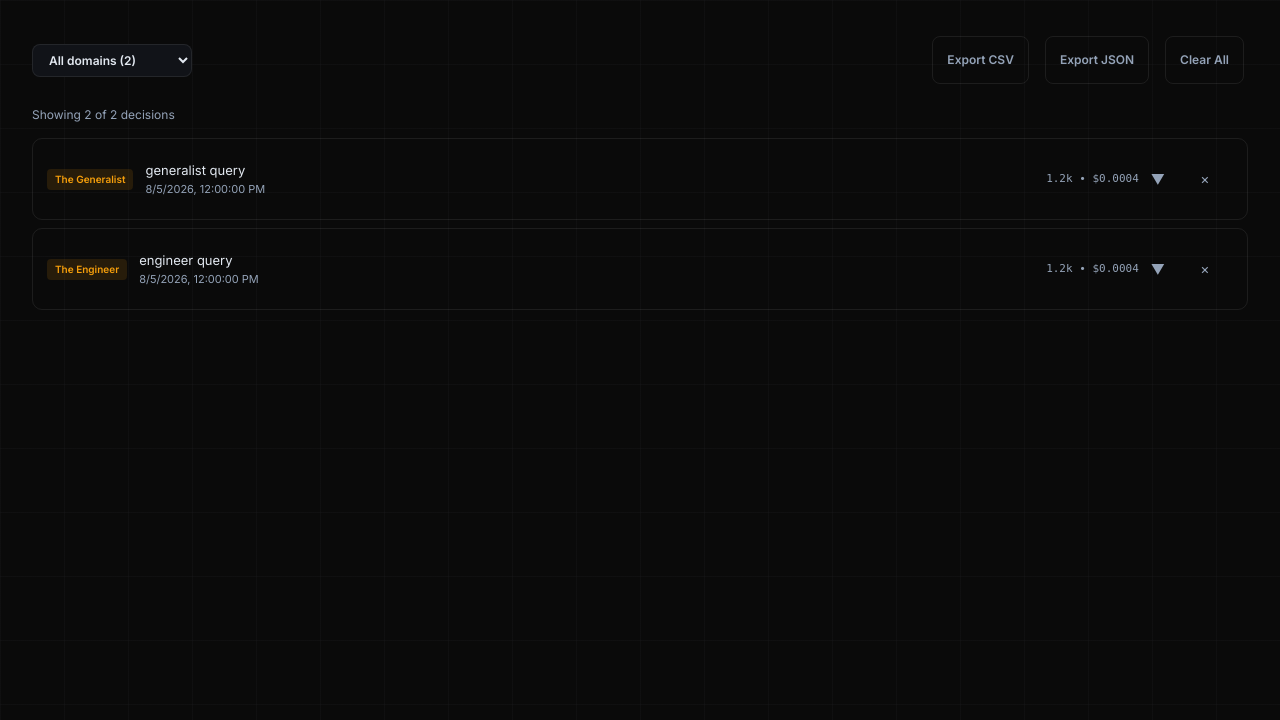
DecisionFeed › filters the list when a domain is selected
Select "The Engineer (1)" in the dropdown at (112, 60), box x1=32 y1=44 x2=192 y2=76
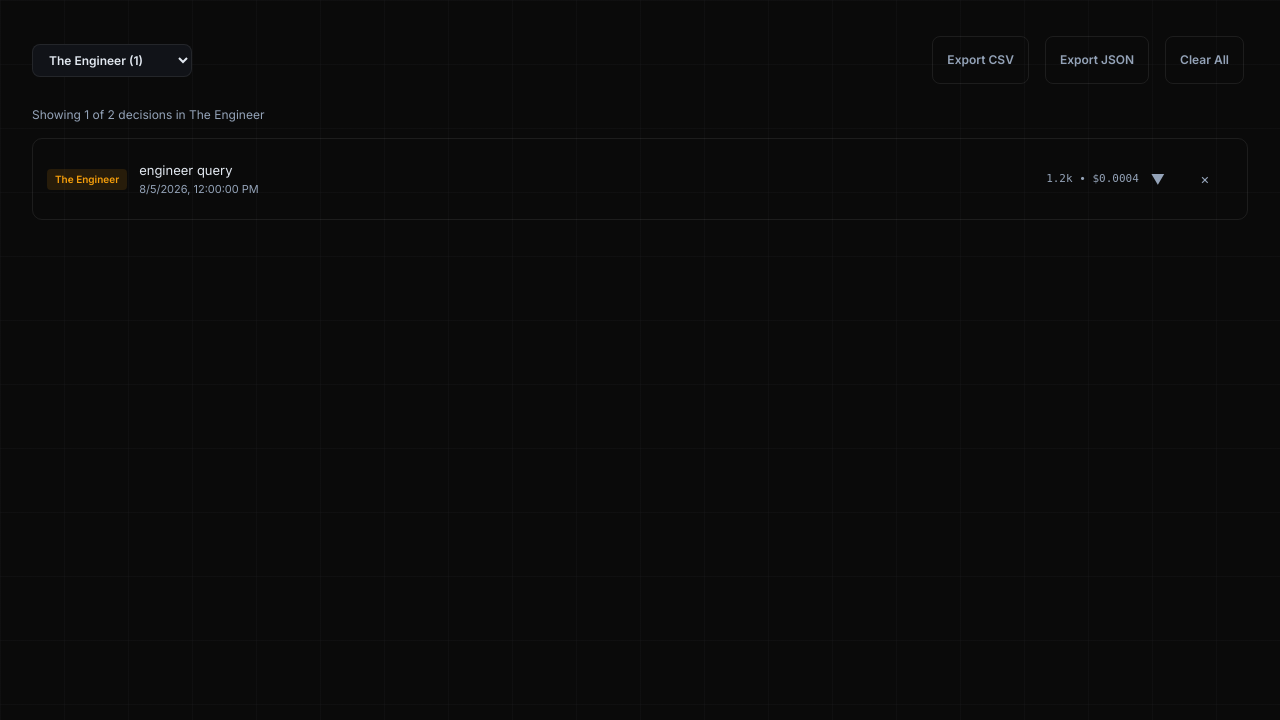
Expected: the text "engineer query" is shown, x1=139 y1=162 x2=232 y2=178
Now the text "generalist query" is gone
